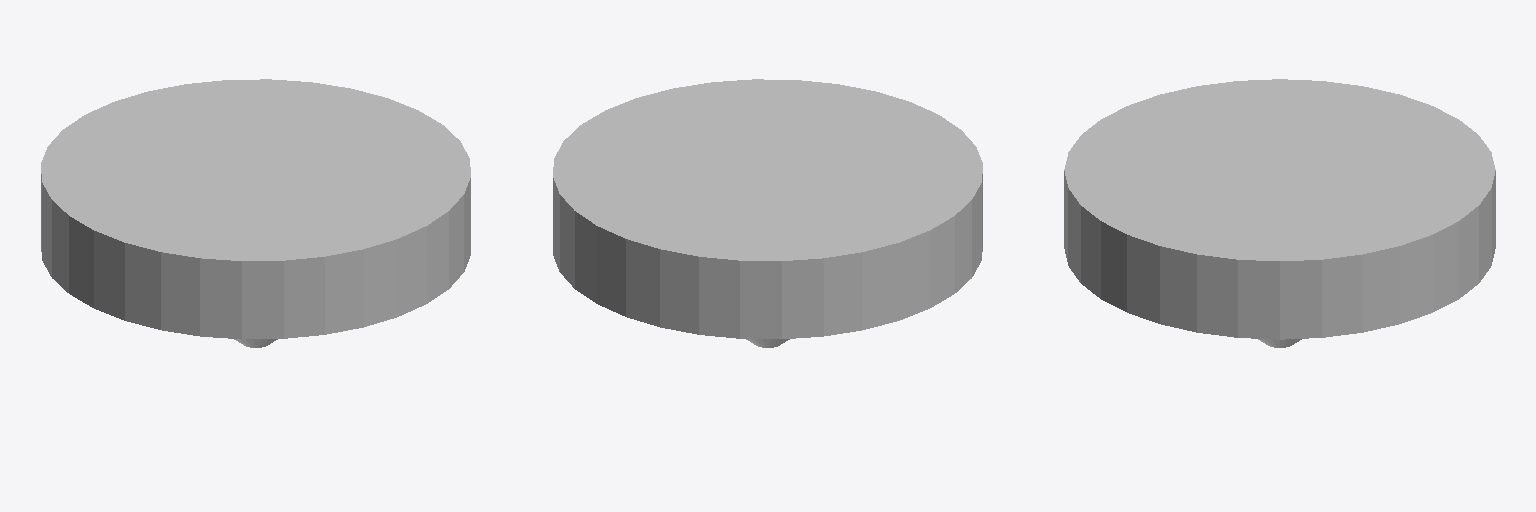
The model's file is beyblade1.obj.
3 views of the same model, side by side, from view 1: azimuth 30°, elevation 25°; view 2: azimuth 150°, elevation 25°; view 3: azimuth 270°, elevation 25° (orthographic).
Visible parts, largest first — view 1: Cone; view 2: Cone; view 3: Cone.
Boxes of the visible parts, <box> form: Cone: <box>41,79,470,347</box>; Cone: <box>553,79,982,347</box>; Cone: <box>1064,79,1495,347</box>.
Bounding box in the file's own units: 2.36 × 1.03 × 2.36.